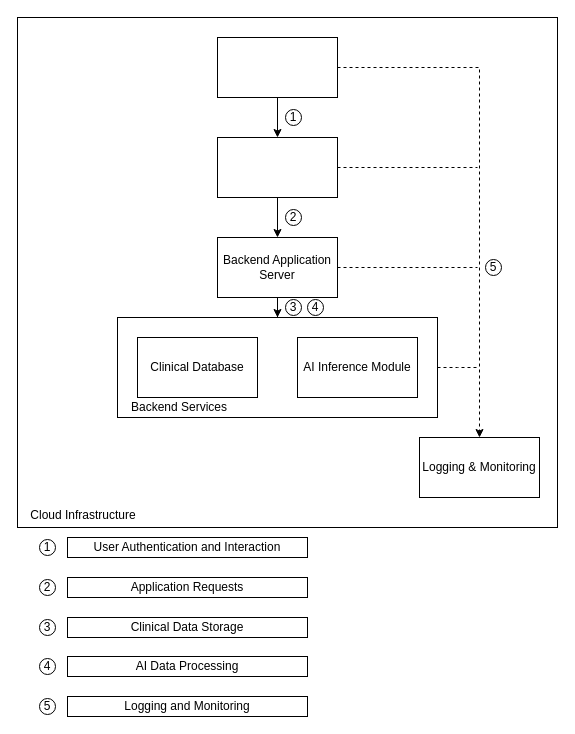
This 575x734 diagram has some shape labels left out. The centre of each missing label's shape, as x and y in pixels:
Users: point (277, 67)
Web Application: point (277, 167)
